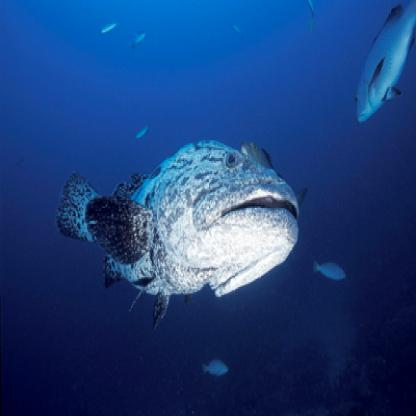grouper: (56, 133, 301, 332)
